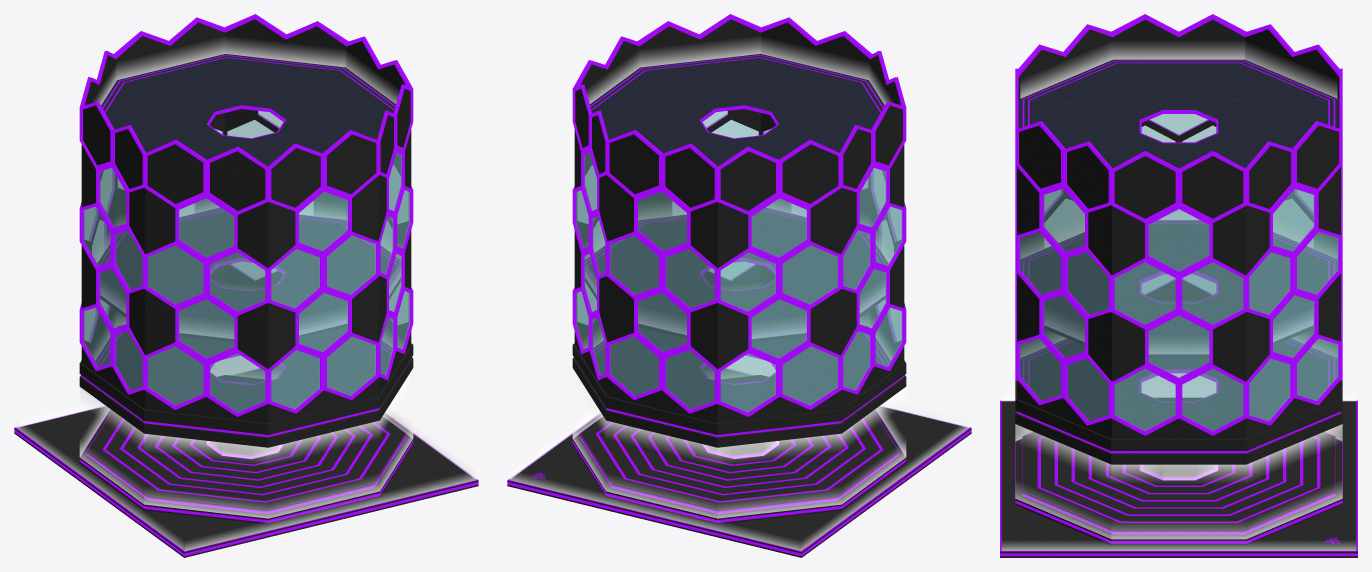
Rendered from Dhingia Builds 07 Size 1x1 Purple.glb.
3 views of the same model, side by side, from view 1: azimuth 30°, elevation 25°; view 2: azimuth 150°, elevation 25°; view 3: azimuth 270°, elevation 25° (orthographic). The views are drawn at different scales.
Visible parts, largest first — view 1: Mesh_3, Mesh_2, Mesh_0, Mesh_9, Mesh_8, Mesh_7, Mesh_1, Mesh_15, Lift; view 2: Mesh_3, Mesh_2, Mesh_0, Mesh_9, Mesh_8, Mesh_7, Mesh_1, Mesh_15, Lift; view 3: Mesh_3, Mesh_2, Mesh_0, Mesh_8, Mesh_9, Mesh_7, Mesh_1, Mesh_15, Lift.
Boxes of the visible parts, left/top/right/bottom form: Mesh_3: left=79, top=14, right=413, bottom=447; Mesh_2: left=83, top=111, right=409, bottom=412; Mesh_0: left=14, top=365, right=478, bottom=557; Mesh_9: left=16, top=40, right=476, bottom=550; Mesh_8: left=101, top=53, right=395, bottom=166; Mesh_7: left=97, top=207, right=400, bottom=341; Mesh_1: left=95, top=324, right=392, bottom=411; Mesh_15: left=102, top=381, right=390, bottom=502; Lift: left=210, top=442, right=279, bottom=457; Mesh_3: left=572, top=14, right=906, bottom=447; Mesh_2: left=576, top=111, right=902, bottom=412; Mesh_0: left=507, top=365, right=971, bottom=557; Mesh_9: left=509, top=40, right=969, bottom=550; Mesh_8: left=590, top=53, right=884, bottom=166; Mesh_7: left=585, top=207, right=888, bottom=341; Mesh_1: left=593, top=324, right=890, bottom=411; Mesh_15: left=595, top=381, right=883, bottom=502; Lift: left=706, top=442, right=775, bottom=457; Mesh_3: left=1015, top=14, right=1342, bottom=464; Mesh_2: left=1019, top=114, right=1338, bottom=430; Mesh_0: left=1000, top=398, right=1357, bottom=557; Mesh_8: left=1019, top=59, right=1338, bottom=168; Mesh_9: left=1001, top=45, right=1356, bottom=550; Mesh_7: left=1020, top=220, right=1337, bottom=357; Mesh_1: left=1020, top=338, right=1337, bottom=430; Mesh_15: left=1037, top=436, right=1320, bottom=522; Lift: left=1143, top=465, right=1214, bottom=478.
Size of what is drawn, in the model's own units: 16 by 19.7 by 16.
Materials: 5 (3 with a texture image).
